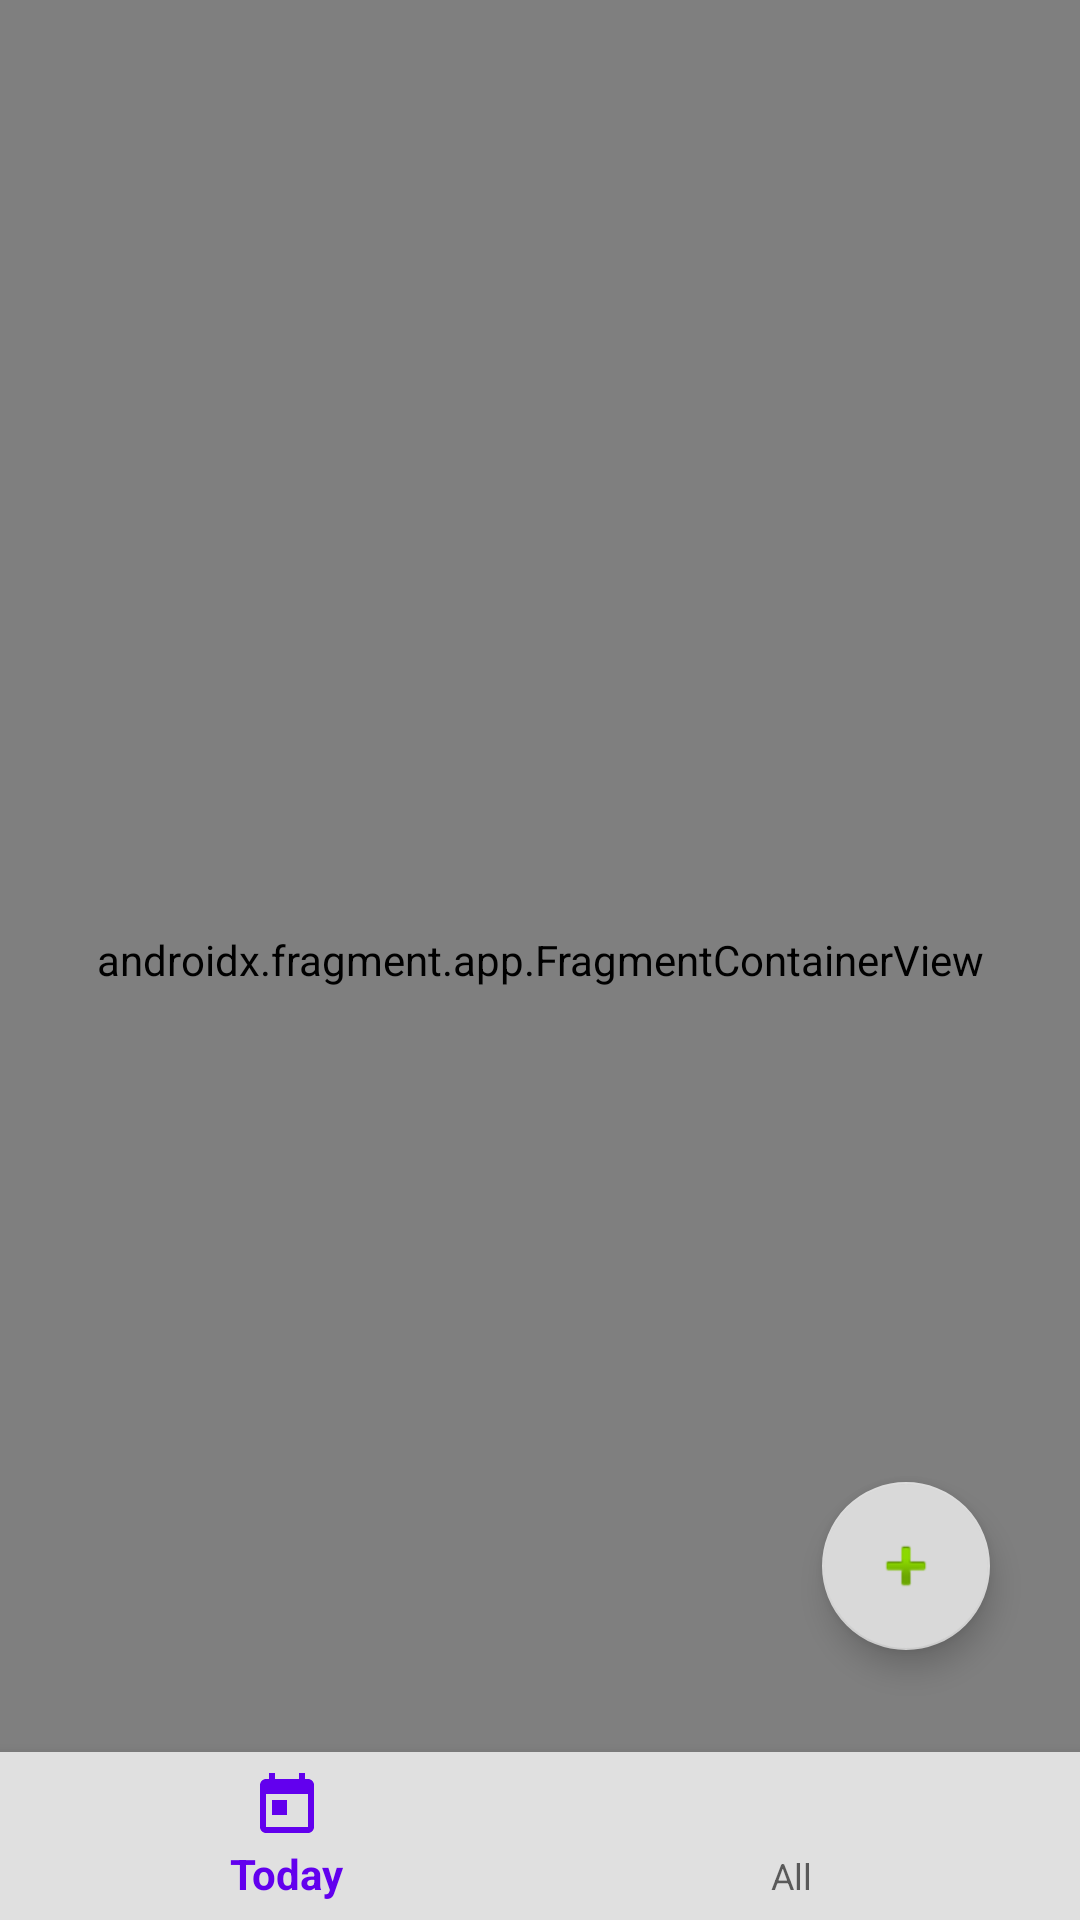

Point at icon controls on the screen. Image size 1080px x 1920px, points as (x=x, y=y).
add: (x=906, y=1566)
